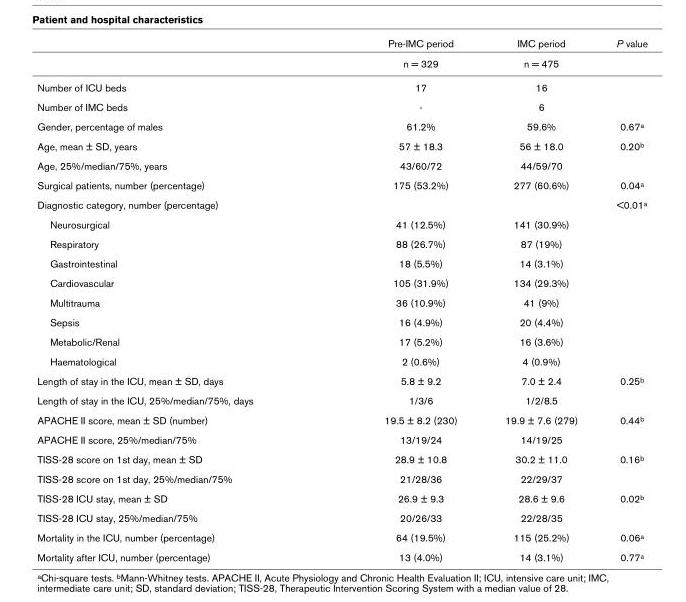table: (36, 36, 646, 562)
table column: (36, 36, 318, 562), (318, 36, 480, 562), (480, 36, 596, 562), (596, 36, 646, 562)
table column header: (36, 36, 646, 52)
table row: (36, 52, 646, 75), (36, 75, 646, 96), (36, 96, 646, 116), (36, 135, 646, 155), (36, 155, 646, 175), (36, 194, 646, 214), (36, 233, 646, 253), (36, 272, 646, 292), (36, 292, 646, 312), (36, 331, 646, 351), (36, 370, 646, 390), (36, 409, 646, 429), (36, 448, 646, 468), (36, 468, 646, 488), (36, 507, 646, 527), (36, 116, 646, 135), (36, 175, 646, 194), (36, 214, 646, 233), (36, 253, 646, 272), (36, 312, 646, 331), (36, 351, 646, 370), (36, 390, 646, 409), (36, 429, 646, 448), (36, 488, 646, 507), (36, 527, 646, 546), (36, 36, 646, 52), (36, 546, 646, 562)
